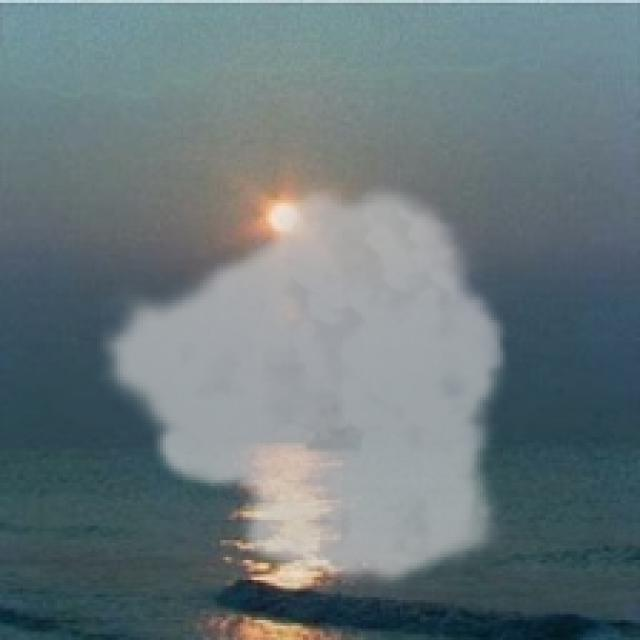smoke: (94, 174, 512, 589)
